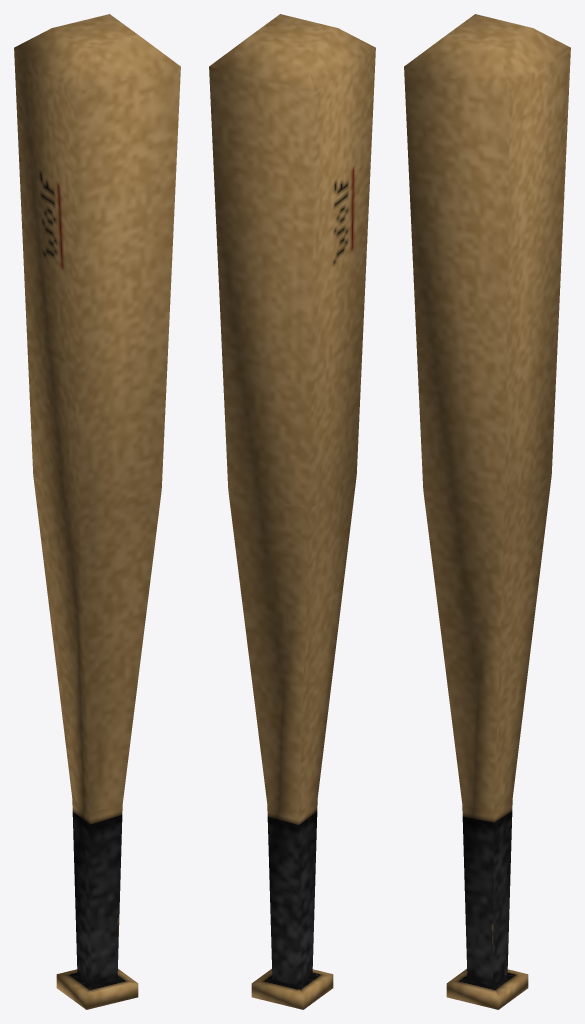
Rendered from bat.fbx.
The picture shows the model from 3 angles, left to right: view 1: azimuth 30°, elevation 25°; view 2: azimuth 150°, elevation 25°; view 3: azimuth 330°, elevation 25°; orthographic projection.
Visible parts, largest first — view 1: Cube; view 2: Cube; view 3: Cube.
Boxes of the visible parts, box(x1,y1,x2,y2) form: Cube: box(14, 14, 180, 1009); Cube: box(209, 14, 375, 1009); Cube: box(404, 14, 570, 1009).
Size of the model in its own units: 69.92 by 606 by 69.92.
1 material, 1 textured.
